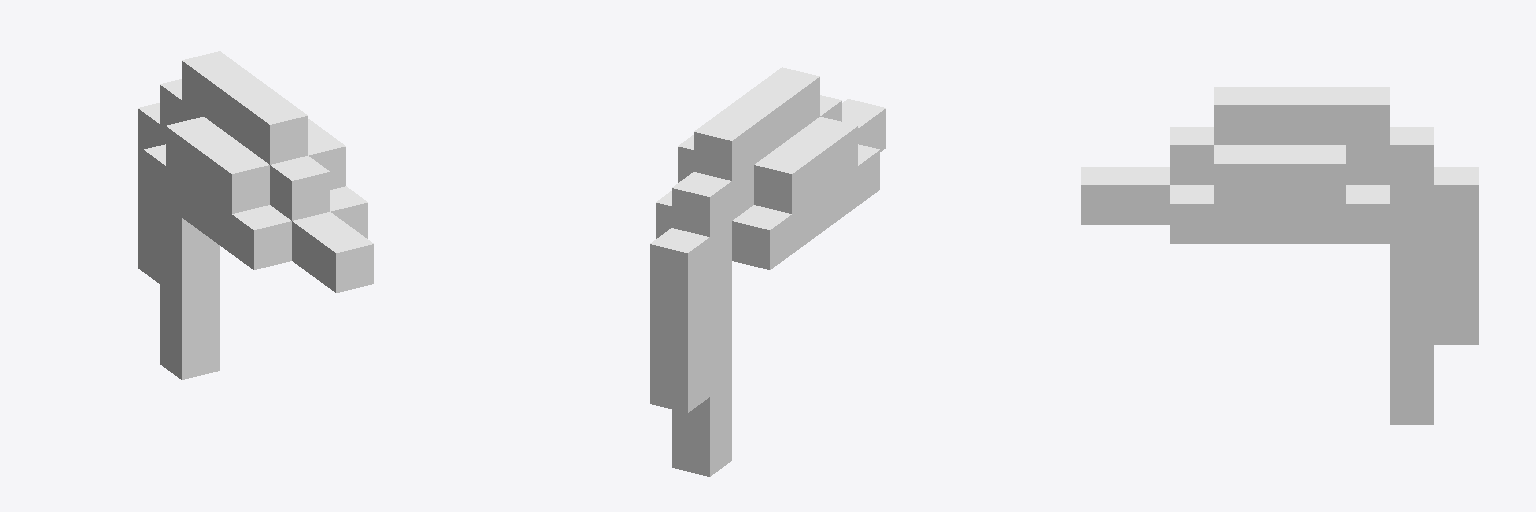
Rendered from hair04.obj.
3 renders of one model, left to right at view 1: azimuth 30°, elevation 25°; view 2: azimuth 150°, elevation 25°; view 3: azimuth 270°, elevation 25°, orthographic.
Visible parts, largest first — view 1: object 1; view 2: object 1; view 3: object 1.
Boxes of the visible parts, <box> form: object 1: <box>138,51,373,379</box>; object 1: <box>650,67,885,476</box>; object 1: <box>1081,87,1478,424</box>.
Bounding box in the file's own units: 0.3 × 0.8 × 0.9.